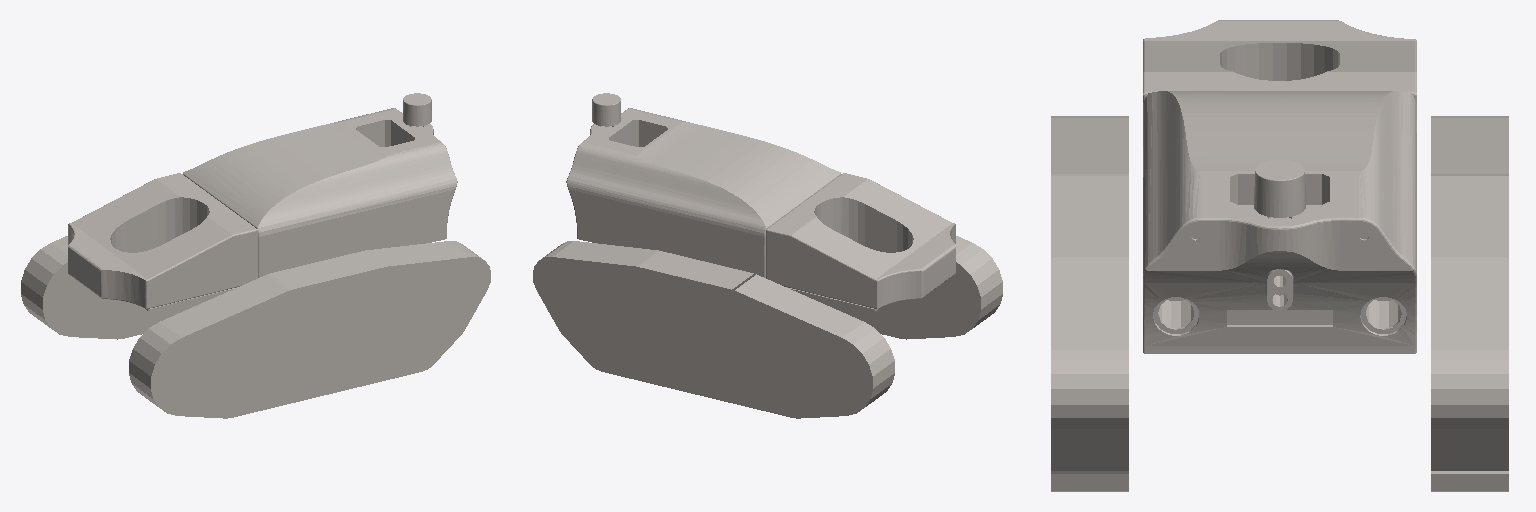
URDF robot description (inspection_car):
<?xml version="1.0" encoding="utf-8"?>
<!-- This URDF was automatically created by SolidWorks to URDF Exporter! Originally created by [author] ([email redacted]) 
     Commit Version: 1.6.0-1-g15f4949  Build Version: 1.6.7594.29634
     For more information, please see http://wiki.ros.org/sw_urdf_exporter -->
<robot
  name="inspection_car">
  <link
    name="base_car">
    <inertial>
      <origin
        xyz="-0.11922 -1.3739E-06 0.12523"
        rpy="0 0 0" />
      <mass
        value="1003.4" />
      <inertia
        ixx="29.79"
        ixy="-0.00028615"
        ixz="-2.9051"
        iyy="45.529"
        iyz="5.2457E-05"
        izz="64.236" />
    </inertial>
    <visual>
      <origin
        xyz="0 0 0"
        rpy="0 0 0" />
      <geometry>
        <mesh
          filename="package://inspection_car/meshes/base_car.STL" />
      </geometry>
      <material
        name="">
        <color
          rgba="0.77647 0.75686 0.73725 1" />
      </material>
    </visual>
    <collision>
      <origin
        xyz="0 0 0"
        rpy="0 0 0" />
      <geometry>
        <mesh
          filename="package://inspection_car/meshes/base_car.STL" />
      </geometry>
    </collision>
  </link>
</robot>

--- What the picture shows (computed from the rendered views, not written in the file) ---
3 views of the same robot in one strip: view 1: azimuth 30°, elevation 25°; view 2: azimuth 150°, elevation 25°; view 3: azimuth 270°, elevation 25° (orthographic).
Model inspection_car with 1 links and 0 joints (none), rooted at base_car, posed every joint at zero.
Links seen in each view (by area): view 1: base_car; view 2: base_car; view 3: base_car.
Boxes of the visible links, x1=… form: base_car: x1=21, y1=93, x2=490, y2=418; base_car: x1=533, y1=93, x2=1002, y2=418; base_car: x1=1051, y1=20, x2=1508, y2=491.
Bounding box of the posed robot: 1.36 × 0.884 × 0.7872 m (x, y, z).
1 mesh visuals loaded from 1 distinct referenced files (1 binary STL).